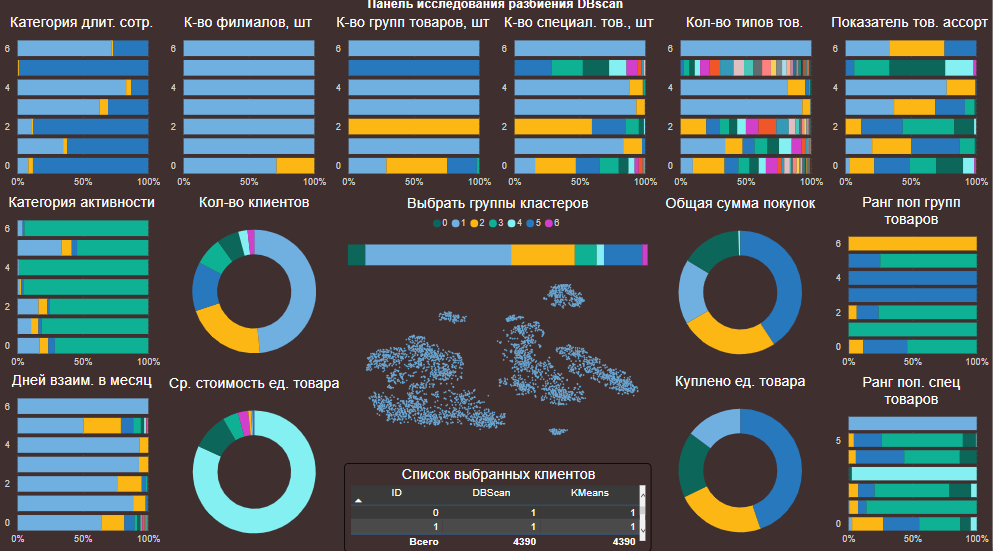

The dashboard page shown, as its layout file describes it:
{"tool":"powerbi","page":{"name":"Интерпритация по DBScan","canvas":[1280,720],"ordinal":1},"visuals":[{"type":"hundredPercentStackedBarChart","title":"К-во групп товаров, шт","fields":{"Category":["Clustering_results.DBScan"],"Y":["CountNonNull(Clustering_results.ID)"],"Series":["Clustering_results.К-во групп покупаемых товаров, шт"]},"box":[426.7,27.5,213.3,232.5],"z":0,"group":"g4"},{"type":"donutChart","title":"Кол-во клиентов","fields":{"Category":["Clustering_results.DBScan"],"Y":["CountNonNull(Clustering_results.ID)"]},"box":[213.8,258.8,230,230],"z":0,"group":"g3"},{"type":"scatterChart","title":"Карта кластеров","fields":{"X":["Sum(2d_mapping.component_1)"],"Y":["Sum(2d_mapping.component_2)"],"Category":["Clustering_results.ID"]},"box":[443.8,361.2,396.2,242.5],"z":0,"group":"g2"},{"type":"textbox","box":[426.3,0,426.3,43.8],"z":500},{"type":"hundredPercentStackedBarChart","title":"Дней взаим. в месяц","fields":{"Category":["Clustering_results.DBScan"],"Y":["CountNonNull(Clustering_results.ID)"],"Series":["Clustering_results.Дней взаимодействия в месяц"]},"box":[0,488.7,213.3,231.3],"z":1000,"group":"g4"},{"type":"tableEx","title":"Список выбранных клиентов","fields":{"Values":["Сводная клиентов.ID","CountNonNull(Clustering_results.DBScan)","CountNonNull(Clustering_results.KMeans)"]},"box":[443.8,605,396.2,115],"z":1000,"group":"g2"},{"type":"hundredPercentStackedBarChart","title":"К-во специал. тов., шт","fields":{"Category":["Clustering_results.DBScan"],"Y":["CountNonNull(Clustering_results.ID)"],"Series":["Clustering_results.К-во специализаций покупаемых товаров, шт"]},"box":[640,27.5,213.3,232.5],"z":2000,"group":"g4"},{"type":"hundredPercentStackedBarChart","title":"Выбрать группы кластеров","fields":{"Y":["CountNonNull(Clustering_results.ID)"],"Series":["Clustering_results.DBScan"]},"box":[443.8,260,396.2,101.2],"z":2000,"group":"g2"},{"type":"donutChart","title":"Общая сумма покупок","fields":{"Category":["Clustering_results.DBScan"],"Y":["Sum(Сводная клиентов.Сумма покупок за все время, руб)"]},"box":[840,260,230,230],"z":2000,"group":"g3"},{"type":"hundredPercentStackedBarChart","title":"Категория активности","fields":{"Category":["Clustering_results.DBScan"],"Y":["CountNonNull(Clustering_results.ID)"],"Series":["Сводная клиентов.Категория активности клиента"]},"box":[0,258.8,213.3,232.5],"z":3000,"group":"g4"},{"type":"donutChart","title":"Ср. стоимость ед. товара","fields":{"Category":["Clustering_results.DBScan"],"Y":["Avg(Сводная клиентов.Средняя стоимость товара, руб)"]},"box":[213.8,491.3,230,228.8],"z":3000,"group":"g3"},{"type":"hundredPercentStackedBarChart","title":"Кол-во типов тов.","fields":{"Category":["Clustering_results.DBScan"],"Y":["CountNonNull(Clustering_results.ID)"],"Series":["Clustering_results.Кол-во типов покупаемых товаров, шт"]},"box":[853.3,27.5,213.3,232.5],"z":4000,"group":"g4"},{"type":"donutChart","title":"Куплено ед. товара","fields":{"Category":["Clustering_results.DBScan"],"Y":["Sum(Сводная клиентов.Общее к-во покупок за все время, шт)"]},"box":[840,488.8,230,230],"z":4000,"group":"g3"},{"type":"hundredPercentStackedBarChart","title":"Категория длит.  сотр.","fields":{"Category":["Clustering_results.DBScan"],"Y":["CountNonNull(Clustering_results.ID)"],"Series":["Сводная клиентов.Показатель количества загазов"]},"box":[0,27.5,213.3,232.5],"z":5000,"group":"g4"},{"type":"group","id":"g1","title":"Группа 3","box":[0,27.5,1280,692.5],"z":6000},{"type":"hundredPercentStackedBarChart","title":"Показатель тов. ассорт","fields":{"Category":["Clustering_results.DBScan"],"Y":["CountNonNull(Clustering_results.ID)"],"Series":["Clustering_results.Товарный ассортимент, шт"]},"box":[1066.7,27.5,213.3,232.5],"z":6000,"group":"g4"},{"type":"hundredPercentStackedBarChart","title":"К-во филиалов, шт","fields":{"Category":["Clustering_results.DBScan"],"Y":["CountNonNull(Clustering_results.ID)"],"Series":["Clustering_results.К-во филиалов, шт"]},"box":[213.3,27.5,213.3,232.5],"z":7000,"group":"g4"},{"type":"group","id":"g2","title":"Группа 2","box":[443.8,260,396.2,460],"z":7002,"group":"g3"},{"type":"group","id":"g3","title":"Группа 4","box":[213.8,258.8,856.2,461.2],"z":7003},{"type":"hundredPercentStackedBarChart","title":"Ранг поп групп товаров","fields":{"Category":["Clustering_results.DBScan"],"Series":["Clustering_results.Ранг популярности групп товаров"],"Y":["CountNonNull(Clustering_results.ID)"]},"box":[1070,258.7,210,232.5],"z":10000,"group":"g1"},{"type":"group","id":"g4","title":"Группа 1","box":[0,27.5,1280,692.5],"z":11000,"group":"g1"},{"type":"hundredPercentStackedBarChart","title":"Ранг поп. спец товаров","fields":{"Category":["Clustering_results.DBScan"],"Y":["CountNonNull(Clustering_results.ID)"],"Series":["Clustering_results.Ранг популярности спец товаров"]},"box":[1070,491.3,210,228.8],"z":12000,"group":"g1"}]}

Visuals, with their boxes in screenshot pixels (x1, y1, x2, y2), scaled from the page's 1280x720 canvas onto the 993x551 screenshot:
"К-во групп товаров, шт" hundredPercentStackedBarChart: [331, 21, 496, 199]
"Кол-во клиентов" donutChart: [166, 198, 344, 374]
"Карта кластеров" scatterChart: [344, 276, 652, 462]
textbox: [331, 0, 661, 34]
"Дней взаим. в месяц" hundredPercentStackedBarChart: [0, 374, 165, 550]
"Список выбранных клиентов" tableEx: [344, 463, 652, 550]
"К-во специал. тов., шт" hundredPercentStackedBarChart: [496, 21, 662, 199]
"Выбрать группы кластеров" hundredPercentStackedBarChart: [344, 199, 652, 276]
"Общая сумма покупок" donutChart: [652, 199, 830, 375]
"Категория активности" hundredPercentStackedBarChart: [0, 198, 165, 376]
"Ср. стоимость ед. товара" donutChart: [166, 376, 344, 550]
"Кол-во типов тов." hundredPercentStackedBarChart: [662, 21, 827, 199]
"Куплено ед. товара" donutChart: [652, 374, 830, 550]
"Категория длит.  сотр." hundredPercentStackedBarChart: [0, 21, 165, 199]
"Группа 3" group: [0, 21, 992, 550]
"Показатель тов. ассорт" hundredPercentStackedBarChart: [828, 21, 992, 199]
"К-во филиалов, шт" hundredPercentStackedBarChart: [165, 21, 331, 199]
"Группа 2" group: [344, 199, 652, 550]
"Группа 4" group: [166, 198, 830, 550]
"Ранг поп групп товаров" hundredPercentStackedBarChart: [830, 198, 992, 376]
"Группа 1" group: [0, 21, 992, 550]
"Ранг поп. спец товаров" hundredPercentStackedBarChart: [830, 376, 992, 550]
